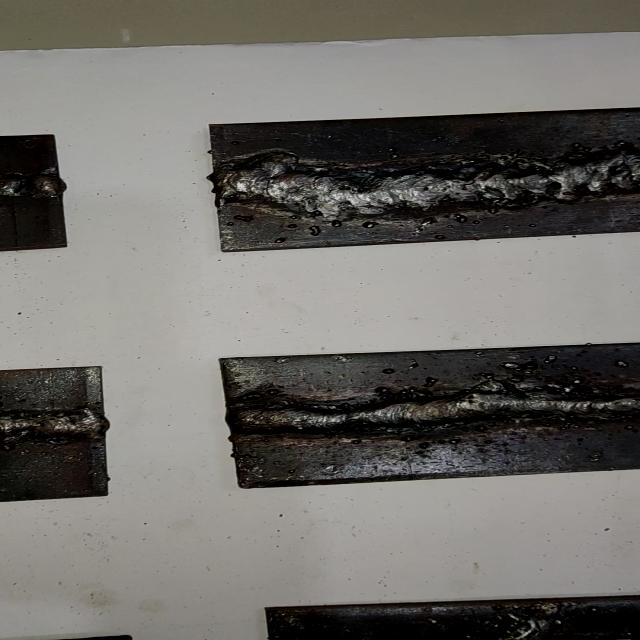Bad Weld: (217, 152, 638, 215), (218, 396, 640, 432)
Defect: (218, 141, 640, 225), (469, 354, 578, 428), (0, 412, 107, 439), (343, 380, 428, 412), (478, 612, 560, 640), (0, 172, 64, 201)
